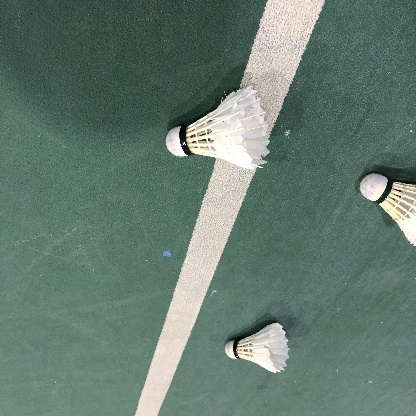ball_single: (166, 86, 270, 169), (360, 173, 416, 246), (225, 323, 290, 373)
